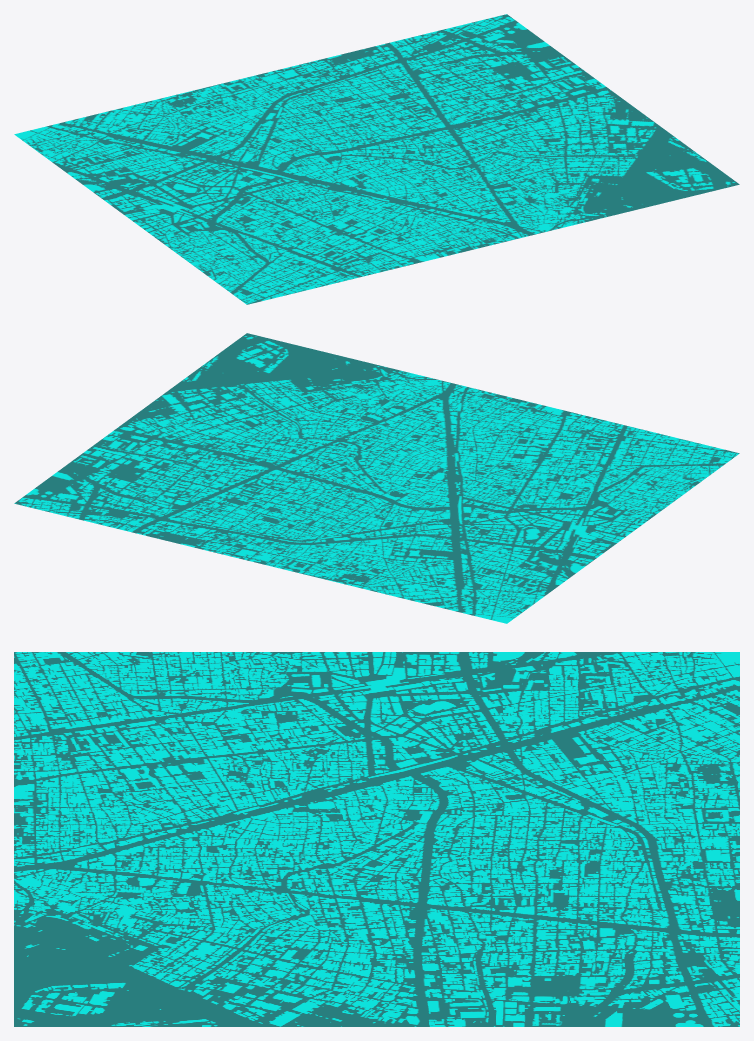
Rendered from floor.fbx.
3 views of the same model, one above another, from view 1: azimuth 30°, elevation 25°; view 2: azimuth 150°, elevation 25°; view 3: azimuth 270°, elevation 25° (orthographic). The views are drawn at different scales.
Visible parts, largest first — view 1: pPlane1; view 2: pPlane1; view 3: pPlane1.
Boxes of the visible parts, left/top/right/bottom form: pPlane1: left=14, top=14, right=739, bottom=304; pPlane1: left=14, top=333, right=739, bottom=623; pPlane1: left=14, top=652, right=739, bottom=1026.
Size of the model in its own units: 3390 by 0 by 2775.
1 material, 1 textured.
